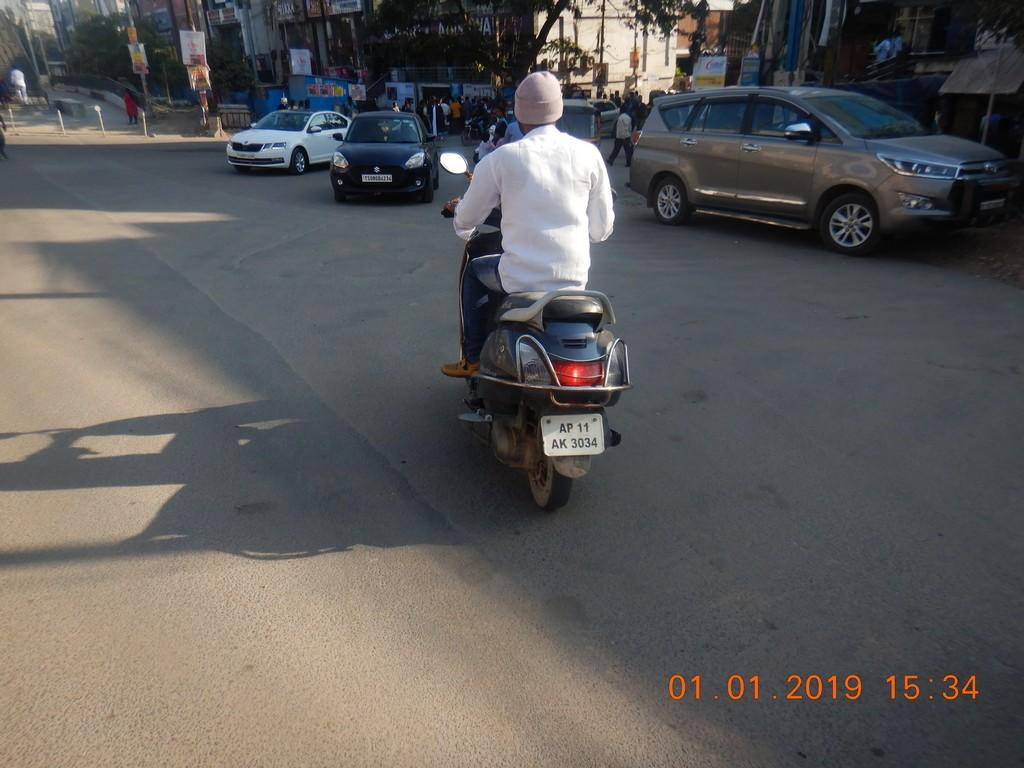plate: (541, 418, 605, 452)
